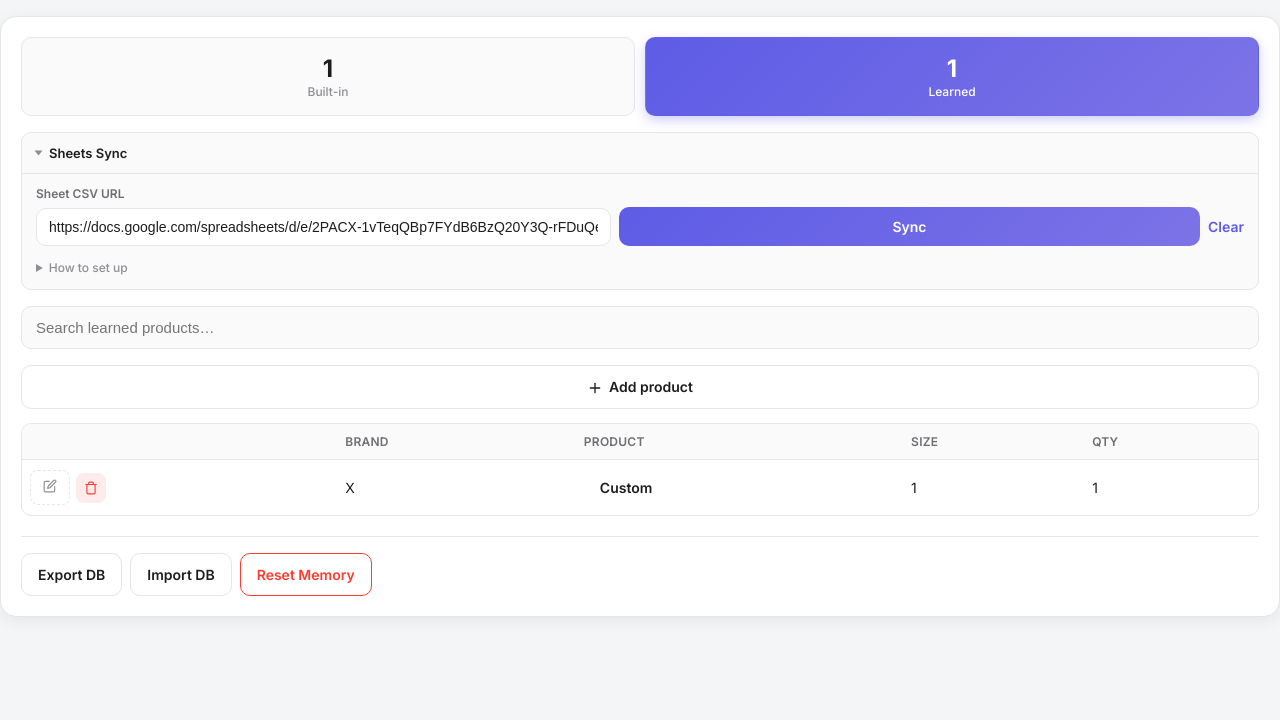
Test: MemoryPanel › switches to Built-in tab on click
Click the text "Built-in": [328, 92] box [308, 84, 348, 99]
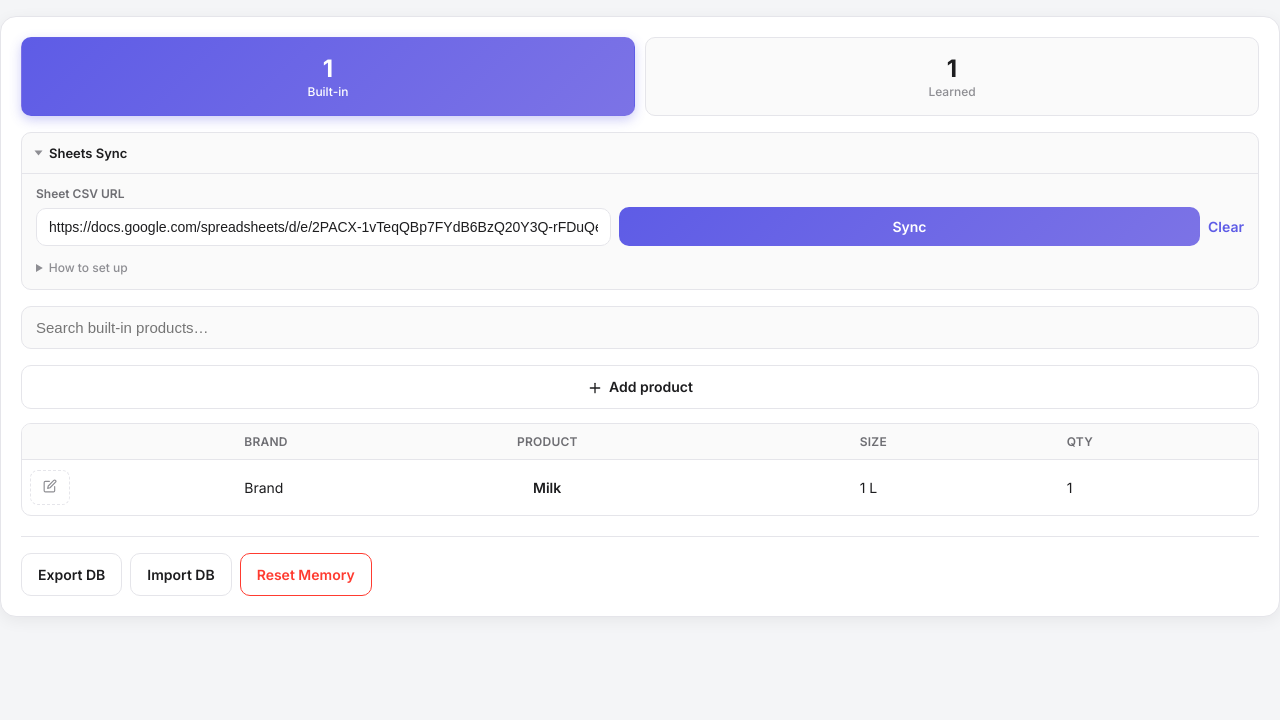
Expected: the text "Milk" is shown, [505, 460, 848, 515]
